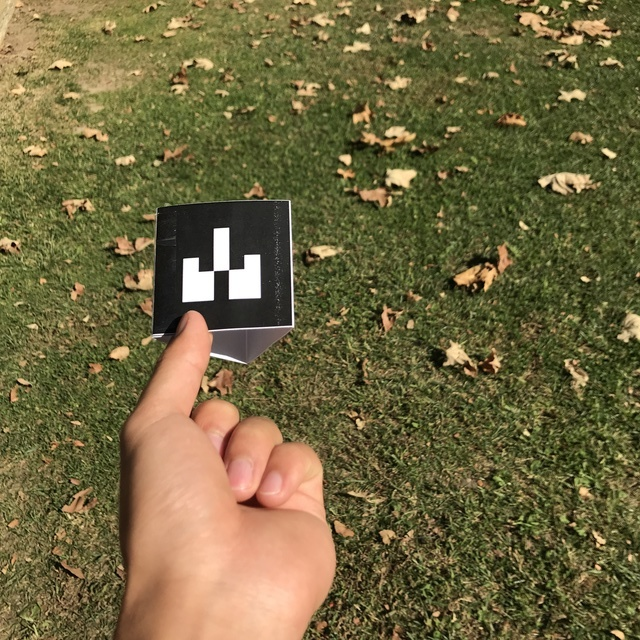ARTag: (152, 198, 295, 367)
